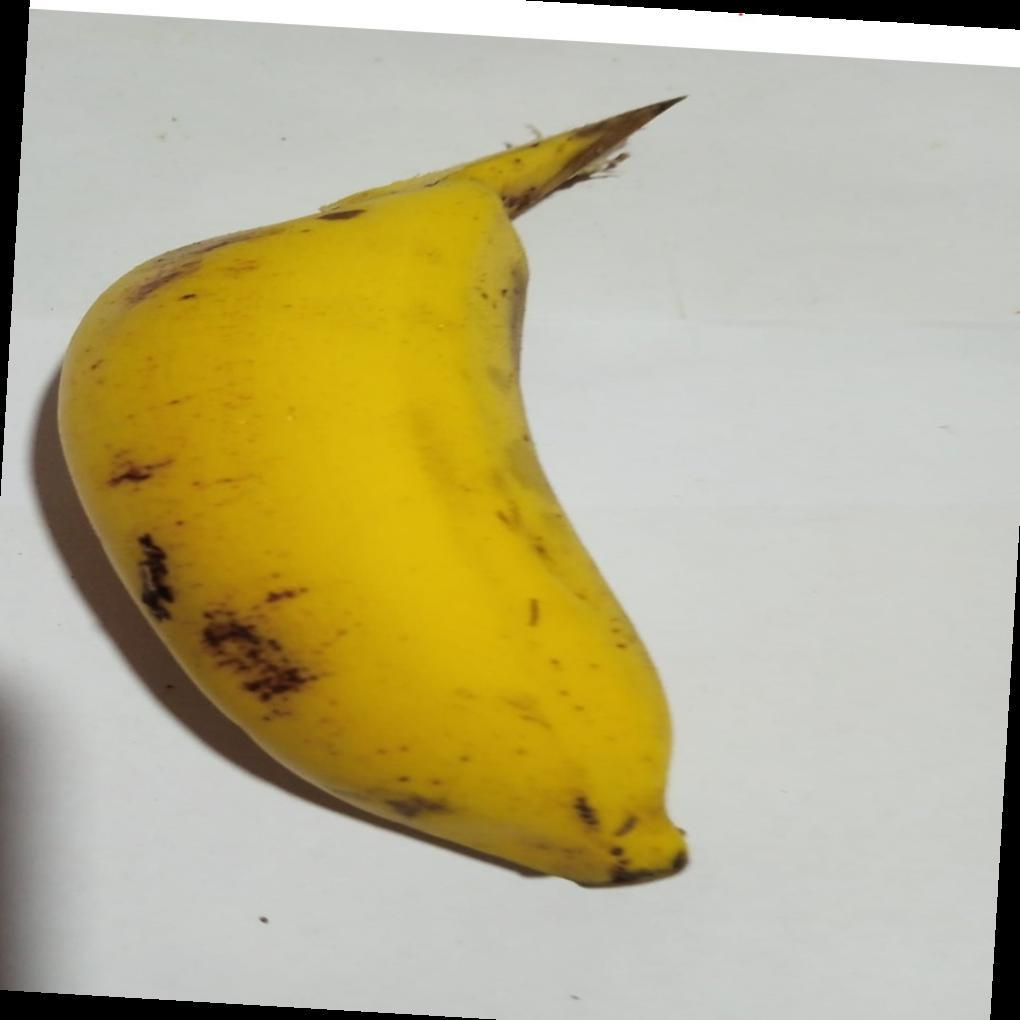Banana Ripe: (55, 124, 693, 889)
